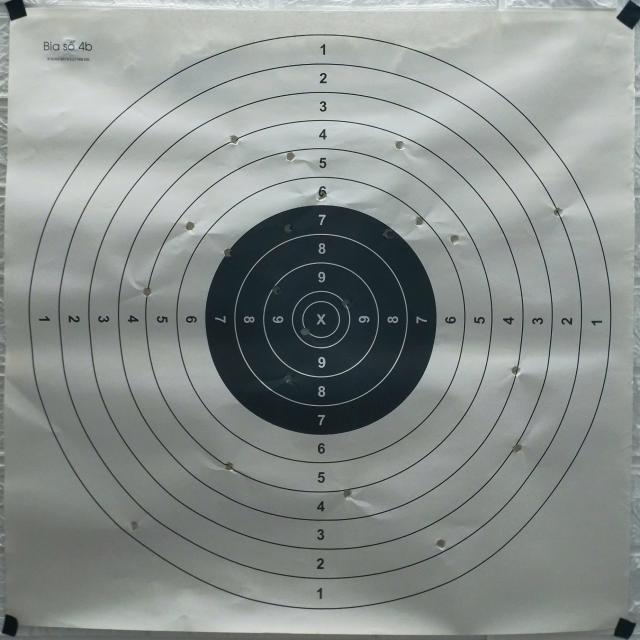bullet: (436, 540, 448, 551), (184, 220, 195, 232), (384, 228, 396, 239), (317, 187, 326, 200), (272, 284, 280, 296), (512, 444, 524, 452), (552, 208, 563, 216), (228, 136, 240, 143), (132, 520, 139, 532), (396, 140, 404, 150), (284, 224, 292, 233), (452, 236, 460, 244), (416, 216, 424, 224), (224, 248, 232, 256), (288, 152, 296, 160), (144, 288, 152, 296), (224, 464, 232, 472), (284, 376, 292, 384), (344, 492, 351, 500), (300, 328, 308, 335), (512, 368, 520, 375), (344, 300, 348, 308)
target: (4, 12, 624, 636)
